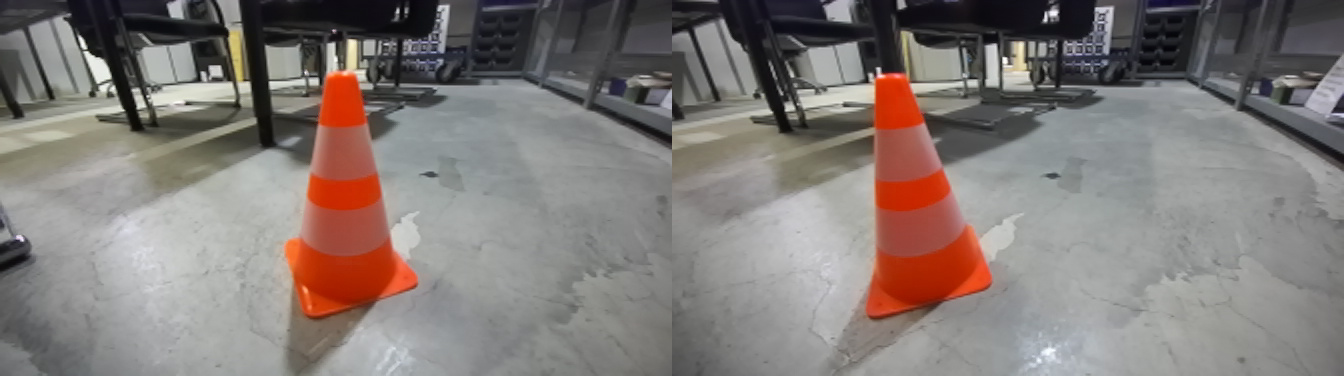cone: (286, 76, 424, 327), (861, 79, 1001, 323)
